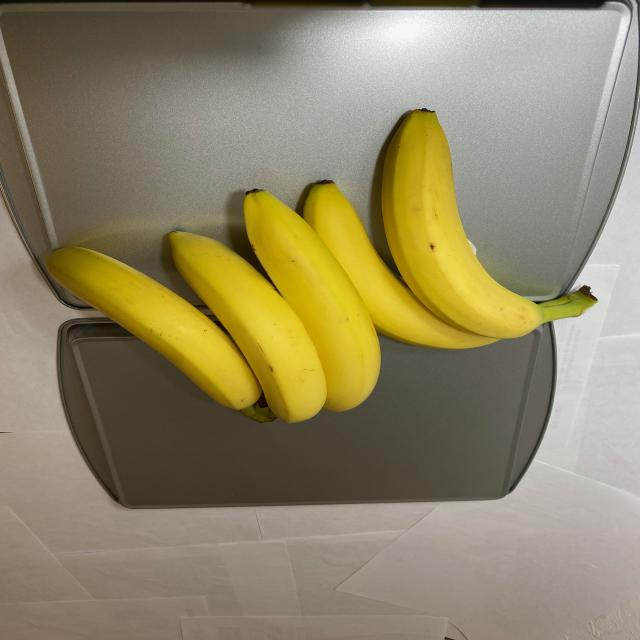banana: (42, 108, 592, 426)
